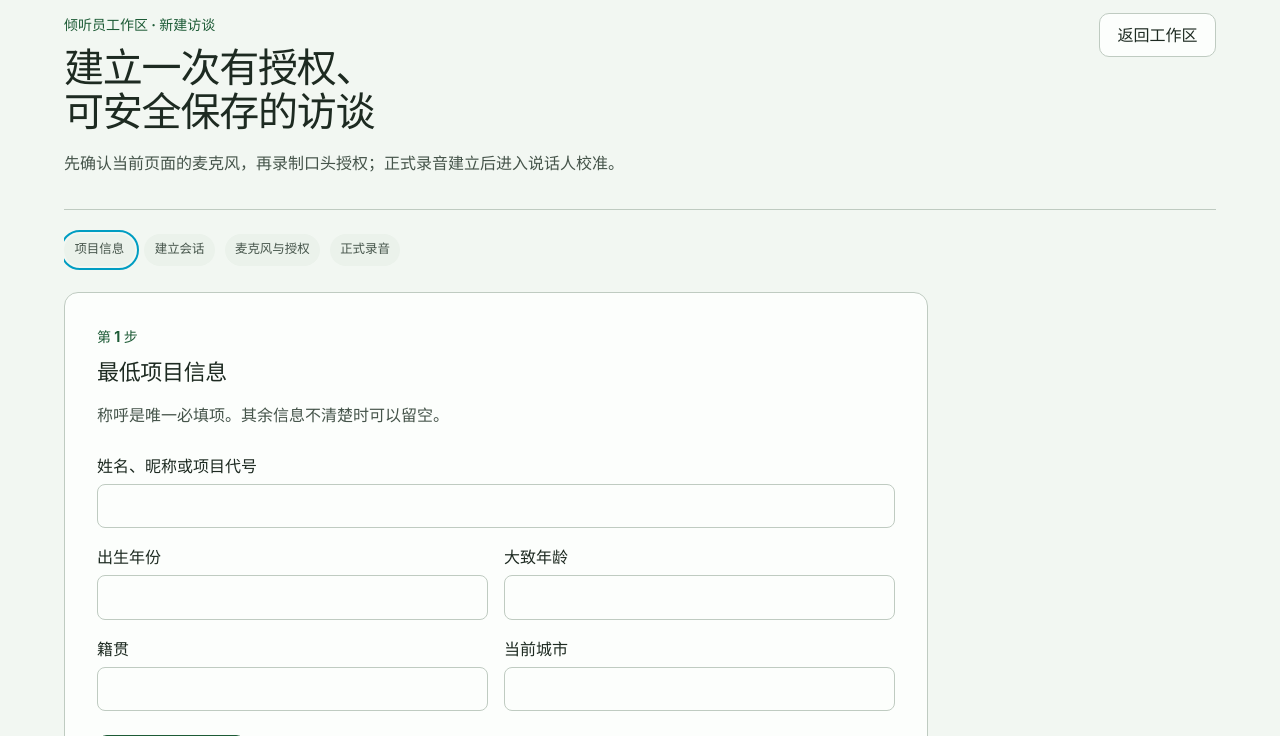
NewInterviewPage › automatically replays an unknown create with the frozen request identity
Check: the heading "最低项目信息" is shown, box [97, 359, 227, 385]
Type "虚构恢复长者" into the field labelled "姓名、昵称或项目代号" at [496, 506], box [97, 484, 895, 528]
(page scrolled)
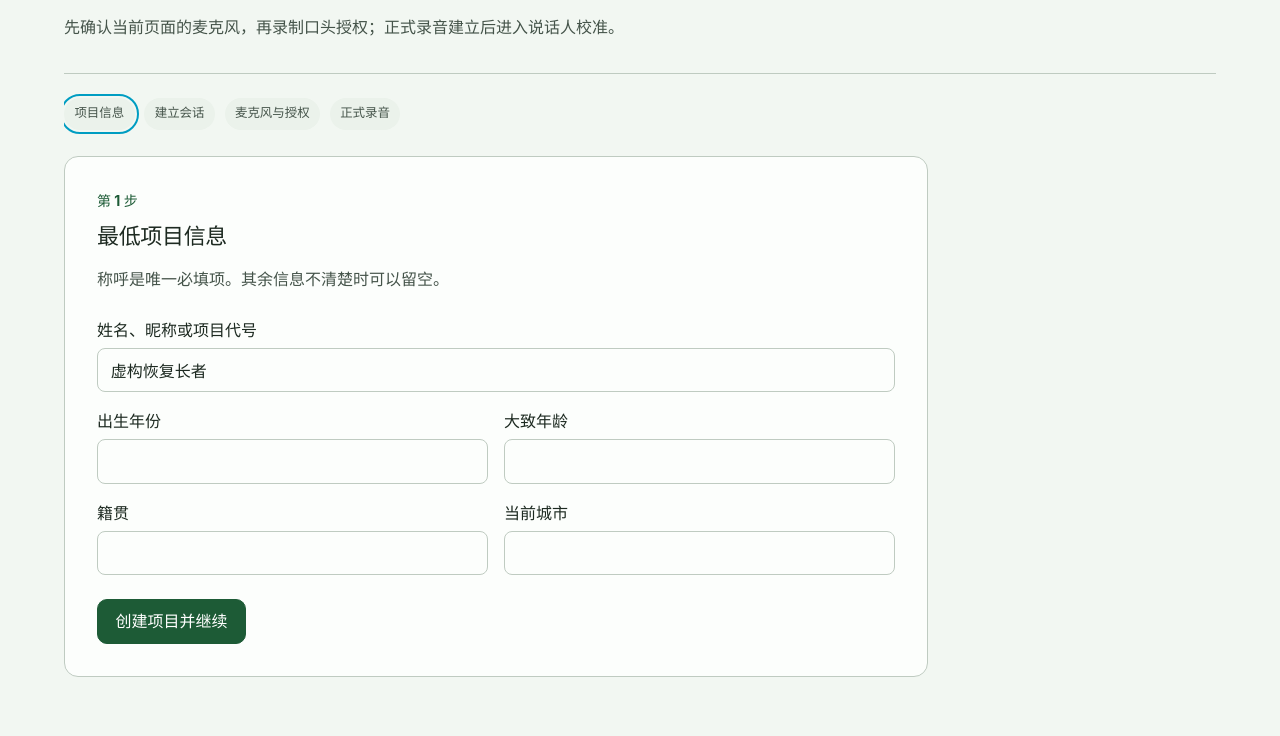
Click the button "创建项目并继续" at [172, 621], box [97, 599, 246, 644]
(page scrolled)
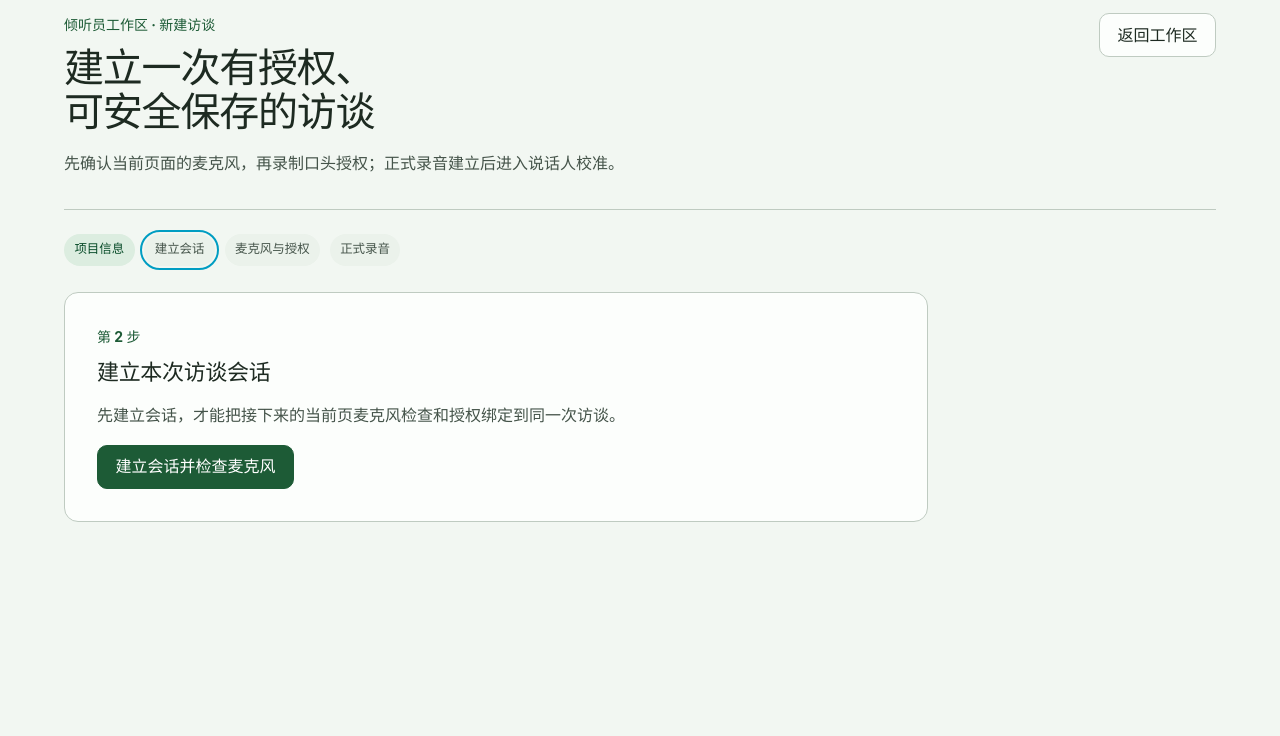
Check: the heading "建立本次访谈会话" is shown, box [97, 359, 270, 385]
